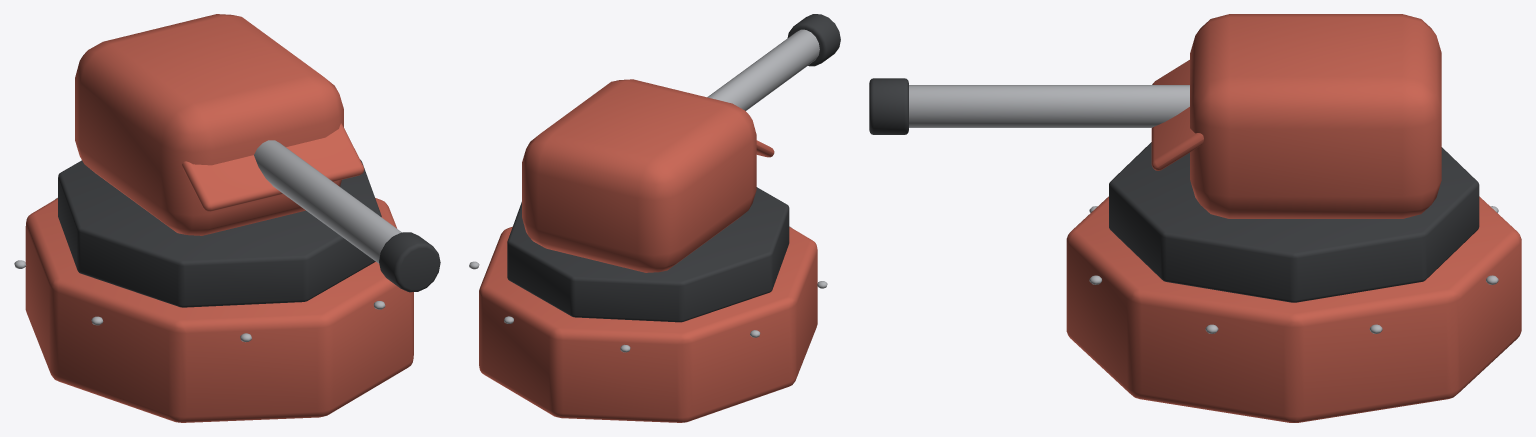
The model's file is building_turret.glb.
3 renders of one model, left to right at view 1: azimuth 30°, elevation 25°; view 2: azimuth 150°, elevation 25°; view 3: azimuth 270°, elevation 25°, orthographic. The views are drawn at different scales.
Parts seen in each view (by area): view 1: Cylinder, Cube, Cylinder.001, Cylinder.002, Cube.001, Cylinder.003; view 2: Cylinder, Cube, Cylinder.001, Cylinder.002, Cylinder.003; view 3: Cylinder, Cube, Cylinder.001, Cylinder.002, Cube.001, Cylinder.003.
Part boxes in pixels (x1,y1,x2,y2): Cylinder: (25,198,413,422); Cube: (75,14,343,235); Cylinder.001: (58,159,381,307); Cylinder.002: (254,140,401,263); Cube.001: (182,123,364,211); Cylinder.003: (379,232,440,292); Cylinder: (479,226,817,422); Cube: (522,79,756,272); Cylinder.001: (507,187,789,322); Cylinder.002: (707,29,819,110); Cylinder.003: (787,14,840,66); Cylinder: (1066,196,1521,422); Cube: (1190,14,1441,218); Cylinder.001: (1109,142,1479,302); Cylinder.002: (909,85,1189,127); Cube.001: (1151,60,1203,170); Cylinder.003: (869,78,908,134).
Size of the model in its own units: 1.88 by 1.47 by 2.98.
